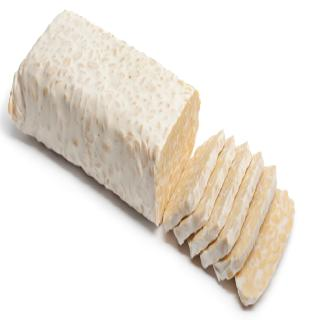Tempe: (188, 150, 265, 267), (214, 165, 278, 283), (235, 187, 296, 307)
